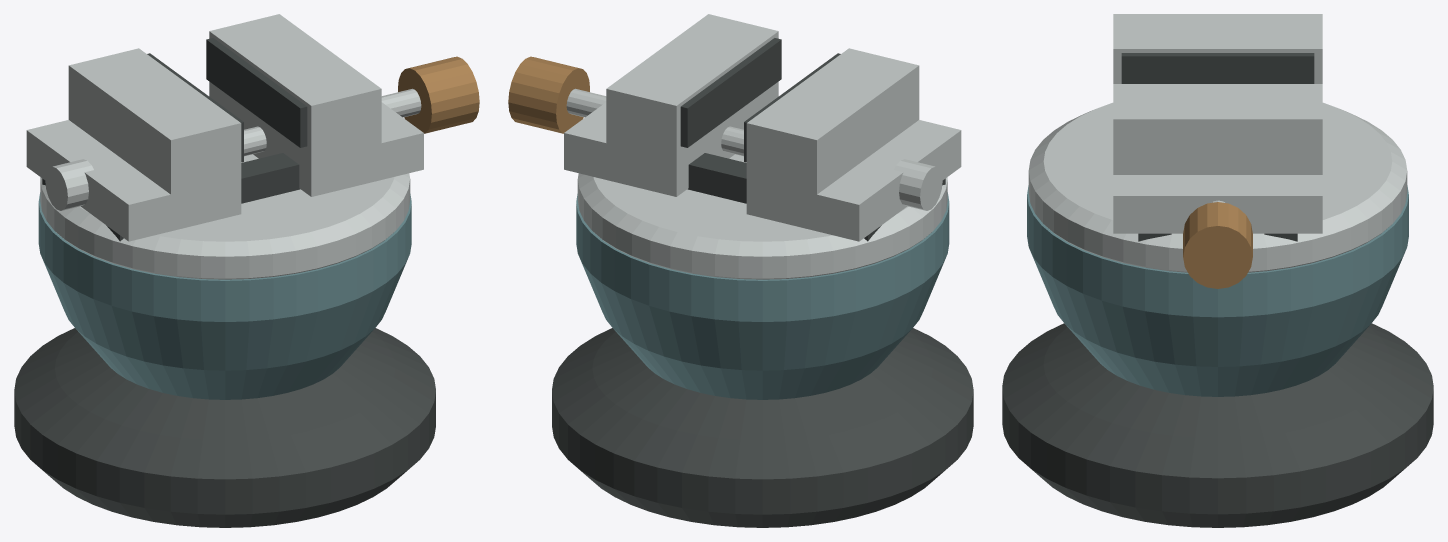
3 renders of one model, left to right at view 1: azimuth 30°, elevation 25°; view 2: azimuth 150°, elevation 25°; view 3: azimuth 270°, elevation 25°, orthographic. The views are drawn at different scales.
Visible parts, largest first — view 1: WholeGroundFootConcaveCradle, WholeRoundedHemisphereViseBody, WholeOpposedSteppedJaw_0, WholeFlatUpperJawCarrier, WholeOpposedSteppedJaw_1, WholeInnerJawFacePlate_1, WholeSideAdjustmentKnob, WholeSeparatedSlideGuide_0, WholeOppositeShaftEndBoss, WholeFixedTransverseAdjustmentShaft; view 2: WholeGroundFootConcaveCradle, WholeRoundedHemisphereViseBody, WholeOpposedSteppedJaw_0, WholeFlatUpperJawCarrier, WholeOpposedSteppedJaw_1, WholeInnerJawFacePlate_1, WholeSideAdjustmentKnob, WholeSeparatedSlideGuide_1, WholeOppositeShaftEndBoss, WholeFixedTransverseAdjustmentShaft; view 3: WholeGroundFootConcaveCradle, WholeRoundedHemisphereViseBody, WholeOpposedSteppedJaw_1, WholeFlatUpperJawCarrier, WholeOpposedSteppedJaw_0, WholeInnerJawFacePlate_0, WholeSideAdjustmentKnob.
Part boxes in pixels (<box>): WholeGroundFootConcaveCradle: <box>14,328,435,527</box>; WholeRoundedHemisphereViseBody: <box>38,192,411,399</box>; WholeOpposedSteppedJaw_0: <box>26,48,241,241</box>; WholeFlatUpperJawCarrier: <box>40,154,410,279</box>; WholeOpposedSteppedJaw_1: <box>209,14,423,196</box>; WholeInnerJawFacePlate_1: <box>206,38,307,147</box>; WholeSideAdjustmentKnob: <box>398,56,479,133</box>; WholeSeparatedSlideGuide_0: <box>106,153,300,241</box>; WholeOppositeShaftEndBoss: <box>45,159,93,210</box>; WholeFixedTransverseAdjustmentShaft: <box>244,88,421,156</box>; WholeGroundFootConcaveCradle: <box>552,328,973,527</box>; WholeRoundedHemisphereViseBody: <box>576,192,949,399</box>; WholeOpposedSteppedJaw_0: <box>746,48,961,241</box>; WholeFlatUpperJawCarrier: <box>577,154,947,279</box>; WholeOpposedSteppedJaw_1: <box>564,14,778,196</box>; WholeInnerJawFacePlate_1: <box>680,38,781,147</box>; WholeSideAdjustmentKnob: <box>508,56,589,133</box>; WholeSeparatedSlideGuide_1: <box>687,153,881,241</box>; WholeOppositeShaftEndBoss: <box>894,159,942,210</box>; WholeFixedTransverseAdjustmentShaft: <box>566,88,743,156</box>; WholeGroundFootConcaveCradle: <box>1002,323,1433,527</box>; WholeRoundedHemisphereViseBody: <box>1027,185,1408,396</box>; WholeOpposedSteppedJaw_1: <box>1113,84,1322,233</box>; WholeFlatUpperJawCarrier: <box>1028,102,1407,272</box>; WholeOpposedSteppedJaw_0: <box>1113,14,1322,83</box>; WholeInnerJawFacePlate_0: <box>1121,53,1314,83</box>; WholeSideAdjustmentKnob: <box>1183,202,1252,288</box>.
Bounding box in the file's own units: 0.299 × 0.253 × 0.26.
